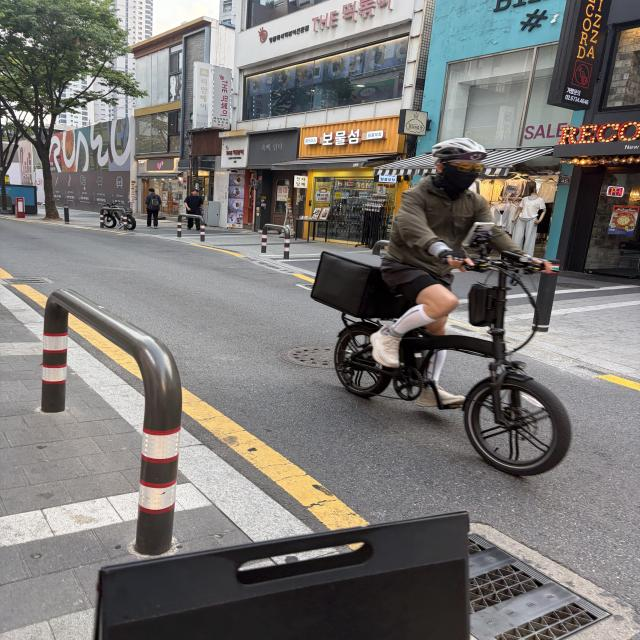bicycle: (301, 105, 618, 515)
